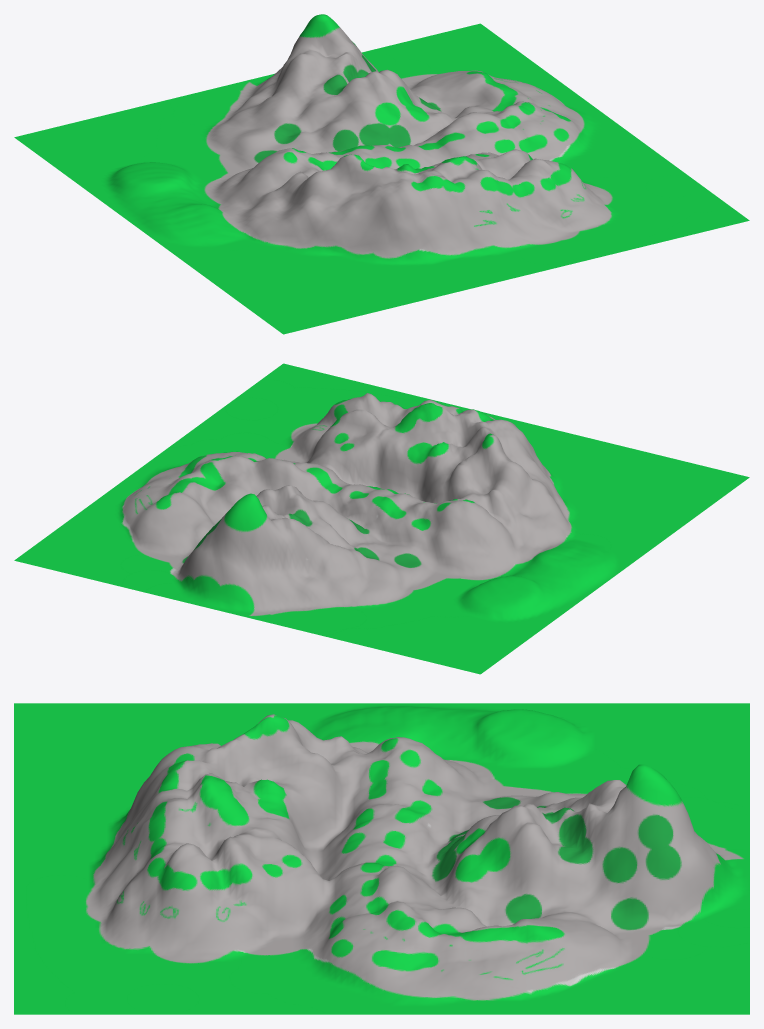
3 views of the same model, one above another, from view 1: azimuth 30°, elevation 25°; view 2: azimuth 150°, elevation 25°; view 3: azimuth 270°, elevation 25° (orthographic). The views are drawn at different scales.
Parts seen in each view (by area): view 1: node_id4; view 2: node_id4; view 3: node_id4.
Boxes of the visible parts, x1,y1,x2,y2 form: node_id4: (14,14,749,334); node_id4: (14,363,749,674); node_id4: (14,703,749,1014).
Bounding box in the file's own units: 0.512 × 0.0894 × 0.512.
1 material, 1 textured.
